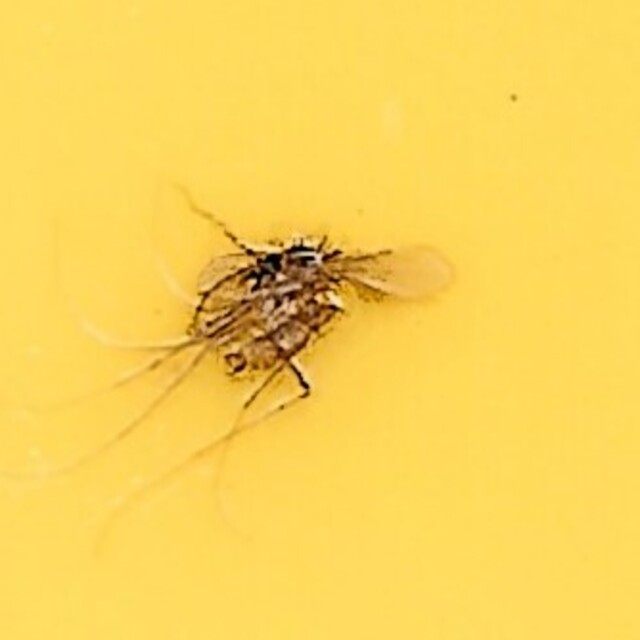Nematocera: (192, 233, 448, 407)
